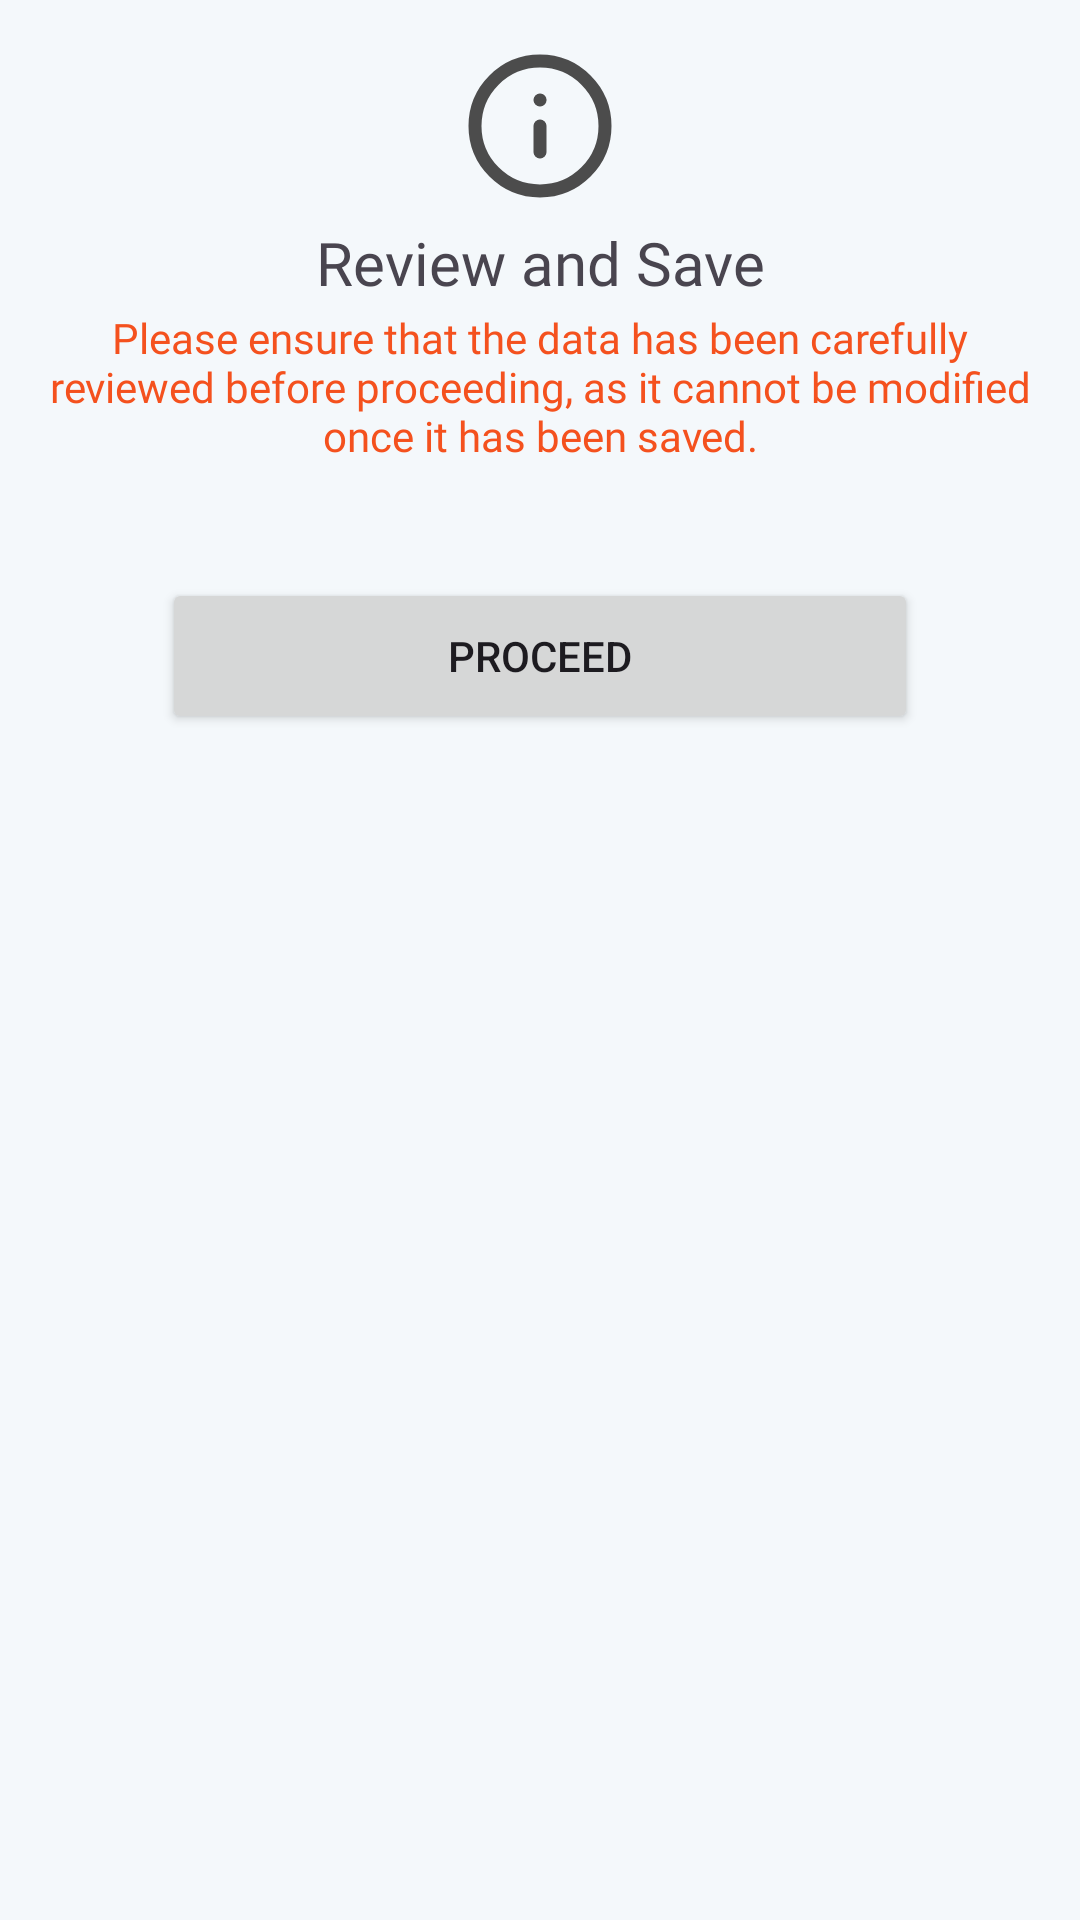

Locate icon controls on the screen. Image size 1080 x 1920, boxes as (x1, y1, x2, y2).
info: (468, 54, 612, 198)
